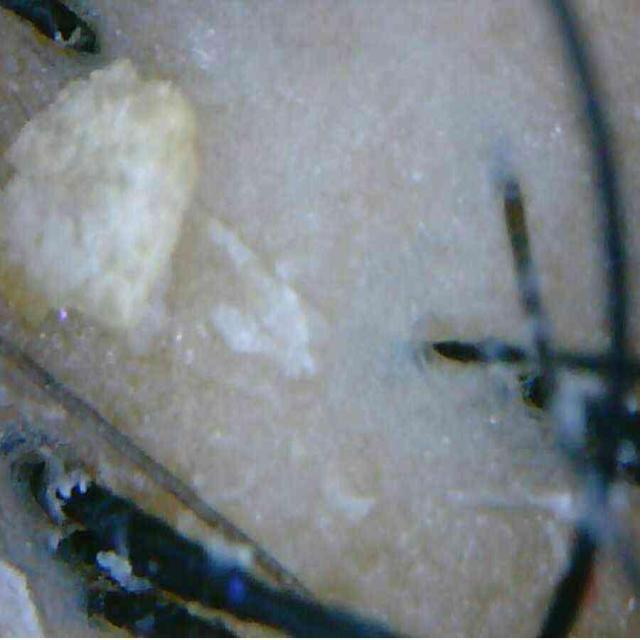d: (0, 57, 203, 356), (205, 258, 318, 384), (0, 426, 92, 525), (173, 508, 261, 570), (550, 369, 605, 451), (0, 559, 44, 638), (95, 546, 155, 596)
